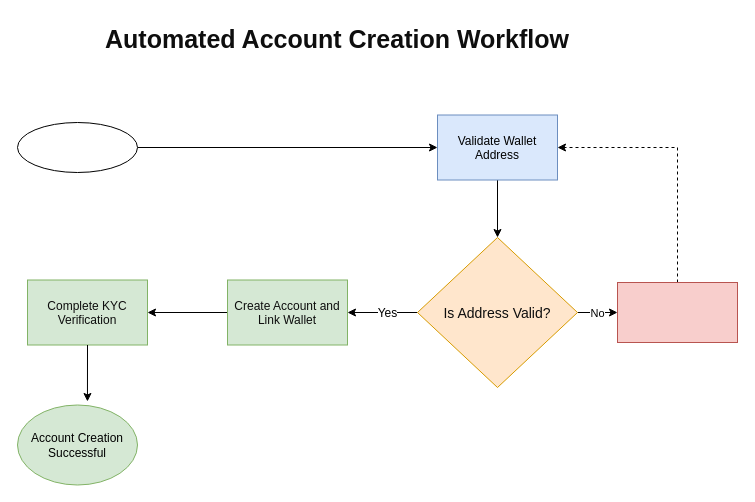
Image size: 755x502. Some labels were removed from this diagram. The centre of each missing label's shape, as x and y in pixels:
"Alert Invalid Wallet Address" goes at point (677, 312).
"User clicks connect Wallet" goes at point (77, 147).
